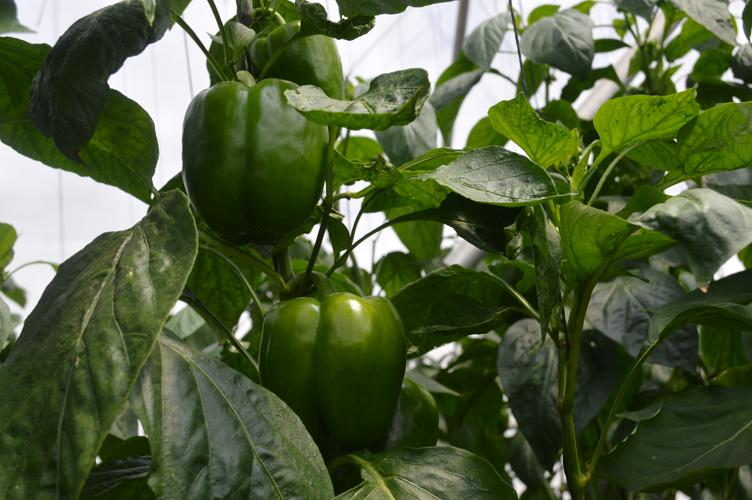BellPepper: (182, 82, 330, 243), (260, 294, 402, 456), (248, 23, 353, 101)
